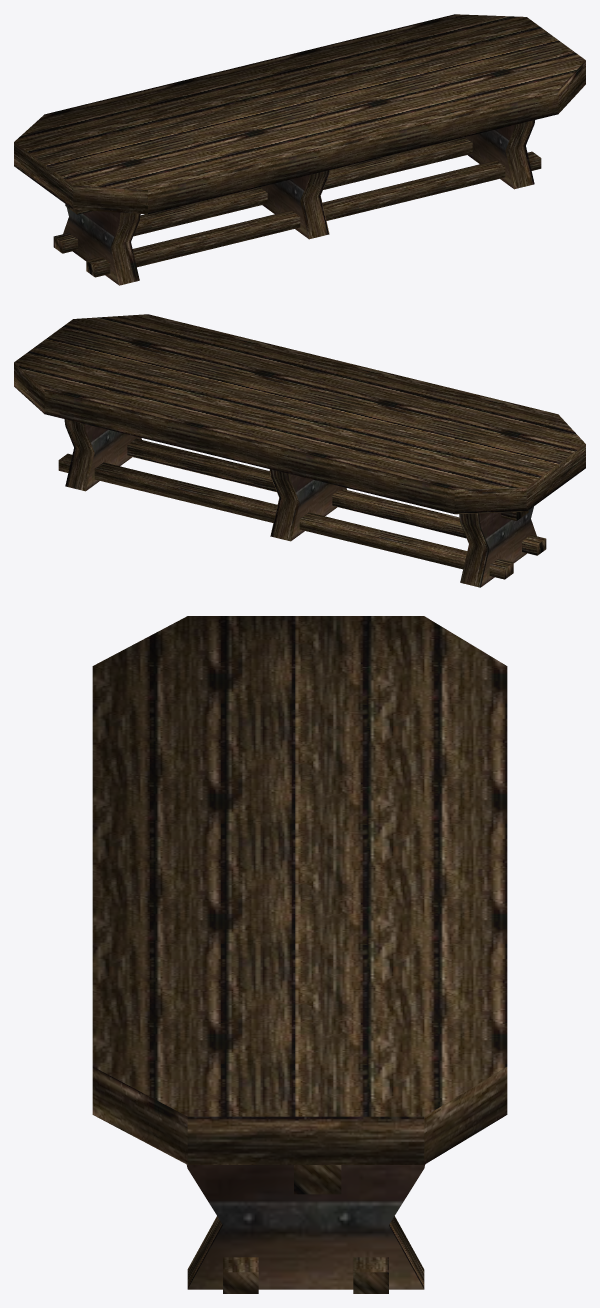
File: OC_LOB_TABLE_EBA.glb
3 renders of one model, top to bottom at view 1: azimuth 30°, elevation 25°; view 2: azimuth 150°, elevation 25°; view 3: azimuth 270°, elevation 25°, orthographic. The views are drawn at different scales.
Visible parts, largest first — view 1: Mesh; view 2: Mesh; view 3: Mesh.
Boxes of the visible parts, x1=… form: Mesh: x1=14, y1=14, x2=585, y2=285; Mesh: x1=14, y1=314, x2=585, y2=587; Mesh: x1=92, y1=616, x2=507, y2=1293.
Size of the model in its own units: 4.97 by 1.03 by 1.74.
Materials: 2 (2 with a texture image).
